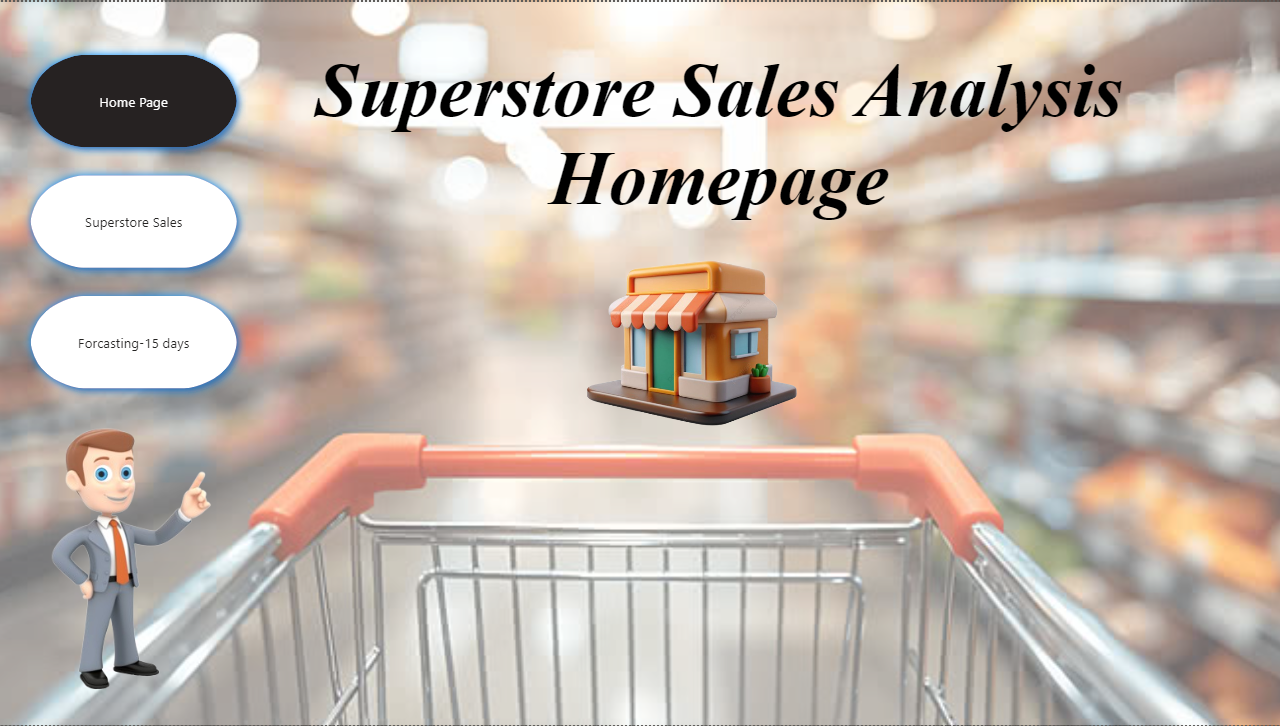

The page's visual inventory and layout, read from the dashboard file:
{"tool":"powerbi","page":{"name":"Home Page","canvas":[1280,720],"ordinal":0},"visuals":[{"type":"shape","box":[0,0,286,775.2],"z":0},{"type":"textbox","title":"Superstore Sales Analysis Homepage","box":[207.8,43.9,1020,297.3],"z":1000},{"type":"pageNavigator","box":[23.3,43.9,223.9,351],"z":2000},{"type":"image","box":[23.3,402.1,206,305.4],"z":3000},{"type":"image","box":[568.7,249.9,244.5,182.7],"z":4000}]}

Visuals, with their boxes in screenshot pixels (x1, y1, x2, y2), scaled from the page's 1280x720 canvas onto the 1280x726 screenshot:
shape: [0,0,286,725]
"Superstore Sales Analysis Homepage" textbox: [208,44,1228,344]
pageNavigator: [23,44,247,398]
image: [23,405,229,713]
image: [569,252,813,436]
